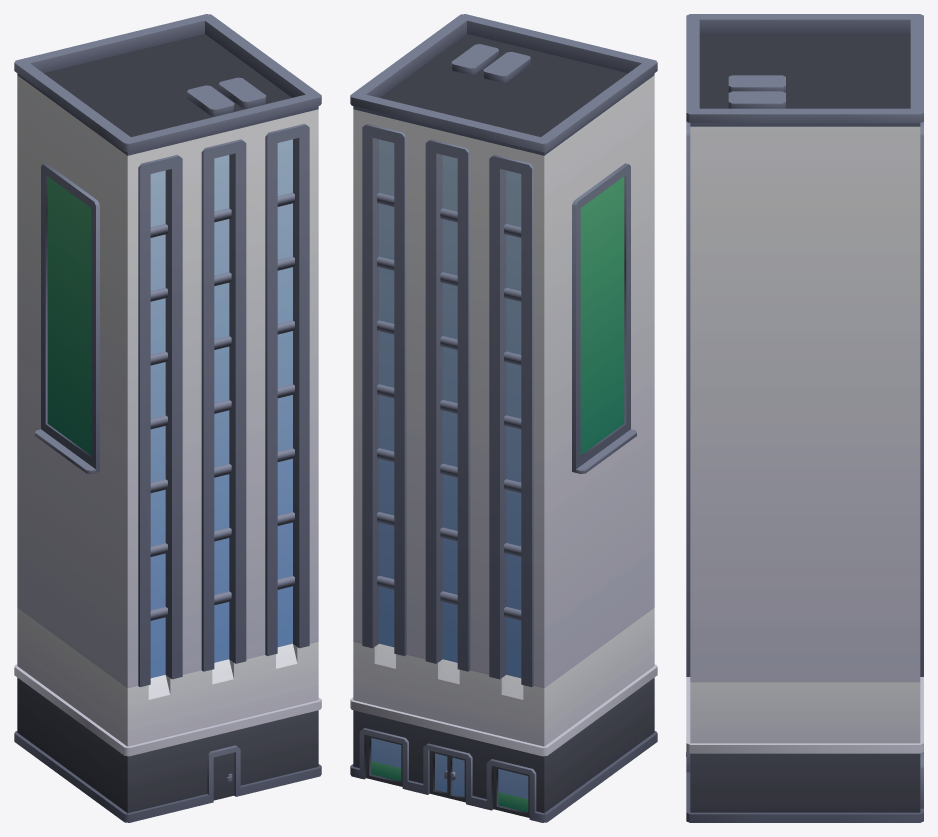
File: building-skyscraper-e.glb
3 views of the same model, side by side, from view 1: azimuth 30°, elevation 25°; view 2: azimuth 150°, elevation 25°; view 3: azimuth 270°, elevation 25° (orthographic). The views are drawn at different scales.
Visible parts, largest first — view 1: building-skyscraper-e; view 2: building-skyscraper-e; view 3: building-skyscraper-e.
Boxes of the visible parts, x1,y1,x2,y2 form: building-skyscraper-e: (14, 14, 321, 822); building-skyscraper-e: (350, 14, 657, 822); building-skyscraper-e: (686, 14, 923, 822).
Size of the model in its own units: 1.3 by 4.08 by 1.24.
1 material, 1 textured.
